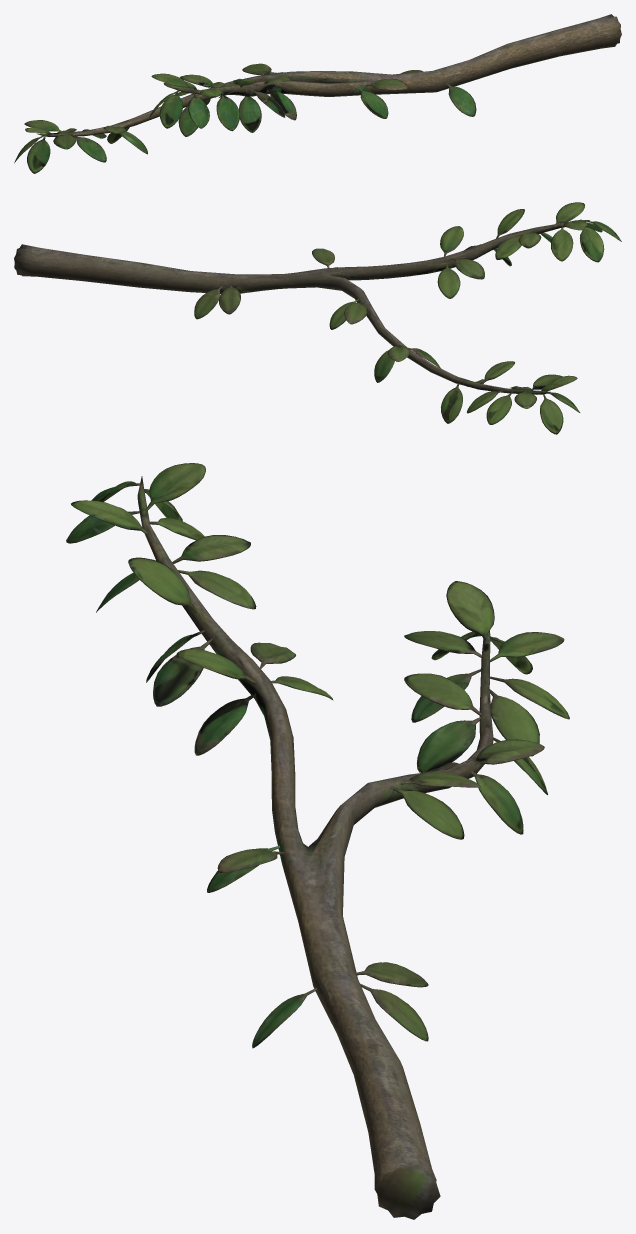
File: Environment_Branch_leaves_02.fbx
3 renders of one model, top to bottom at view 1: azimuth 30°, elevation 25°; view 2: azimuth 150°, elevation 25°; view 3: azimuth 270°, elevation 25°, orthographic. The views are drawn at different scales.
Visible parts, largest first — view 1: 077705b1ebda0490e27bb7e91c5d62ad42f5ea7aaf9dd0a087dea205fe5c; view 2: 077705b1ebda0490e27bb7e91c5d62ad42f5ea7aaf9dd0a087dea205fe5c; view 3: 077705b1ebda0490e27bb7e91c5d62ad42f5ea7aaf9dd0a087dea205fe5c.
Boxes of the visible parts, x1,y1,x2,y2 form: 077705b1ebda0490e27bb7e91c5d62ad42f5ea7aaf9dd0a087dea205fe5c: (14,14,621,173); 077705b1ebda0490e27bb7e91c5d62ad42f5ea7aaf9dd0a087dea205fe5c: (14,202,621,434); 077705b1ebda0490e27bb7e91c5d62ad42f5ea7aaf9dd0a087dea205fe5c: (66,463,569,1219).
Bounding box in the file's own units: 200 × 48.05 × 76.64.
Materials: 1 (1 with a texture image).
